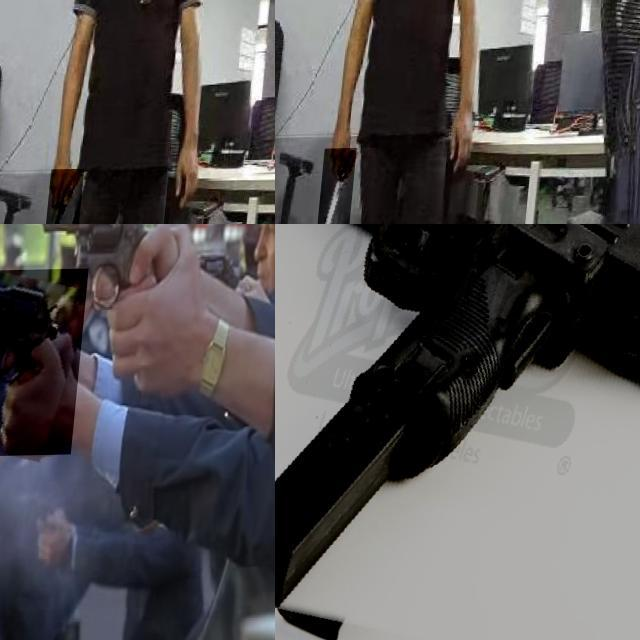-: (328, 149, 367, 224), (53, 169, 94, 224)
gun-knife-thesis - v11 Yolov5 augmented: (275, 224, 640, 640), (10, 224, 184, 397), (0, 269, 93, 458)
